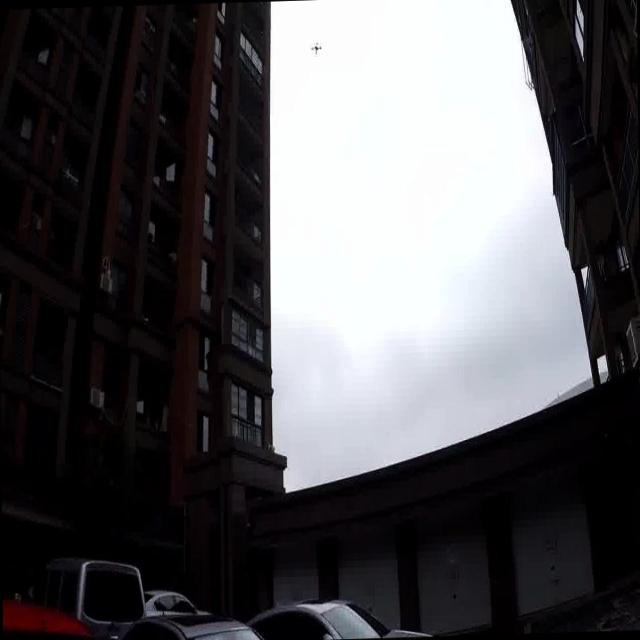drone: (308, 38, 326, 58)
